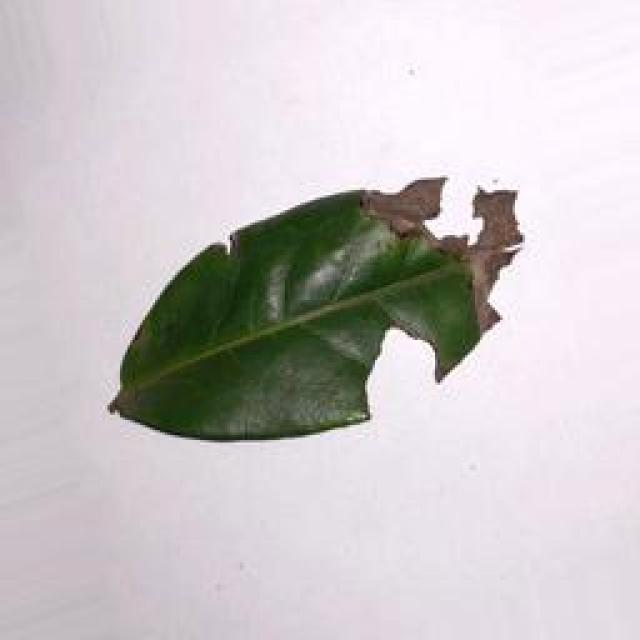Brown Blight: (112, 151, 538, 451)
